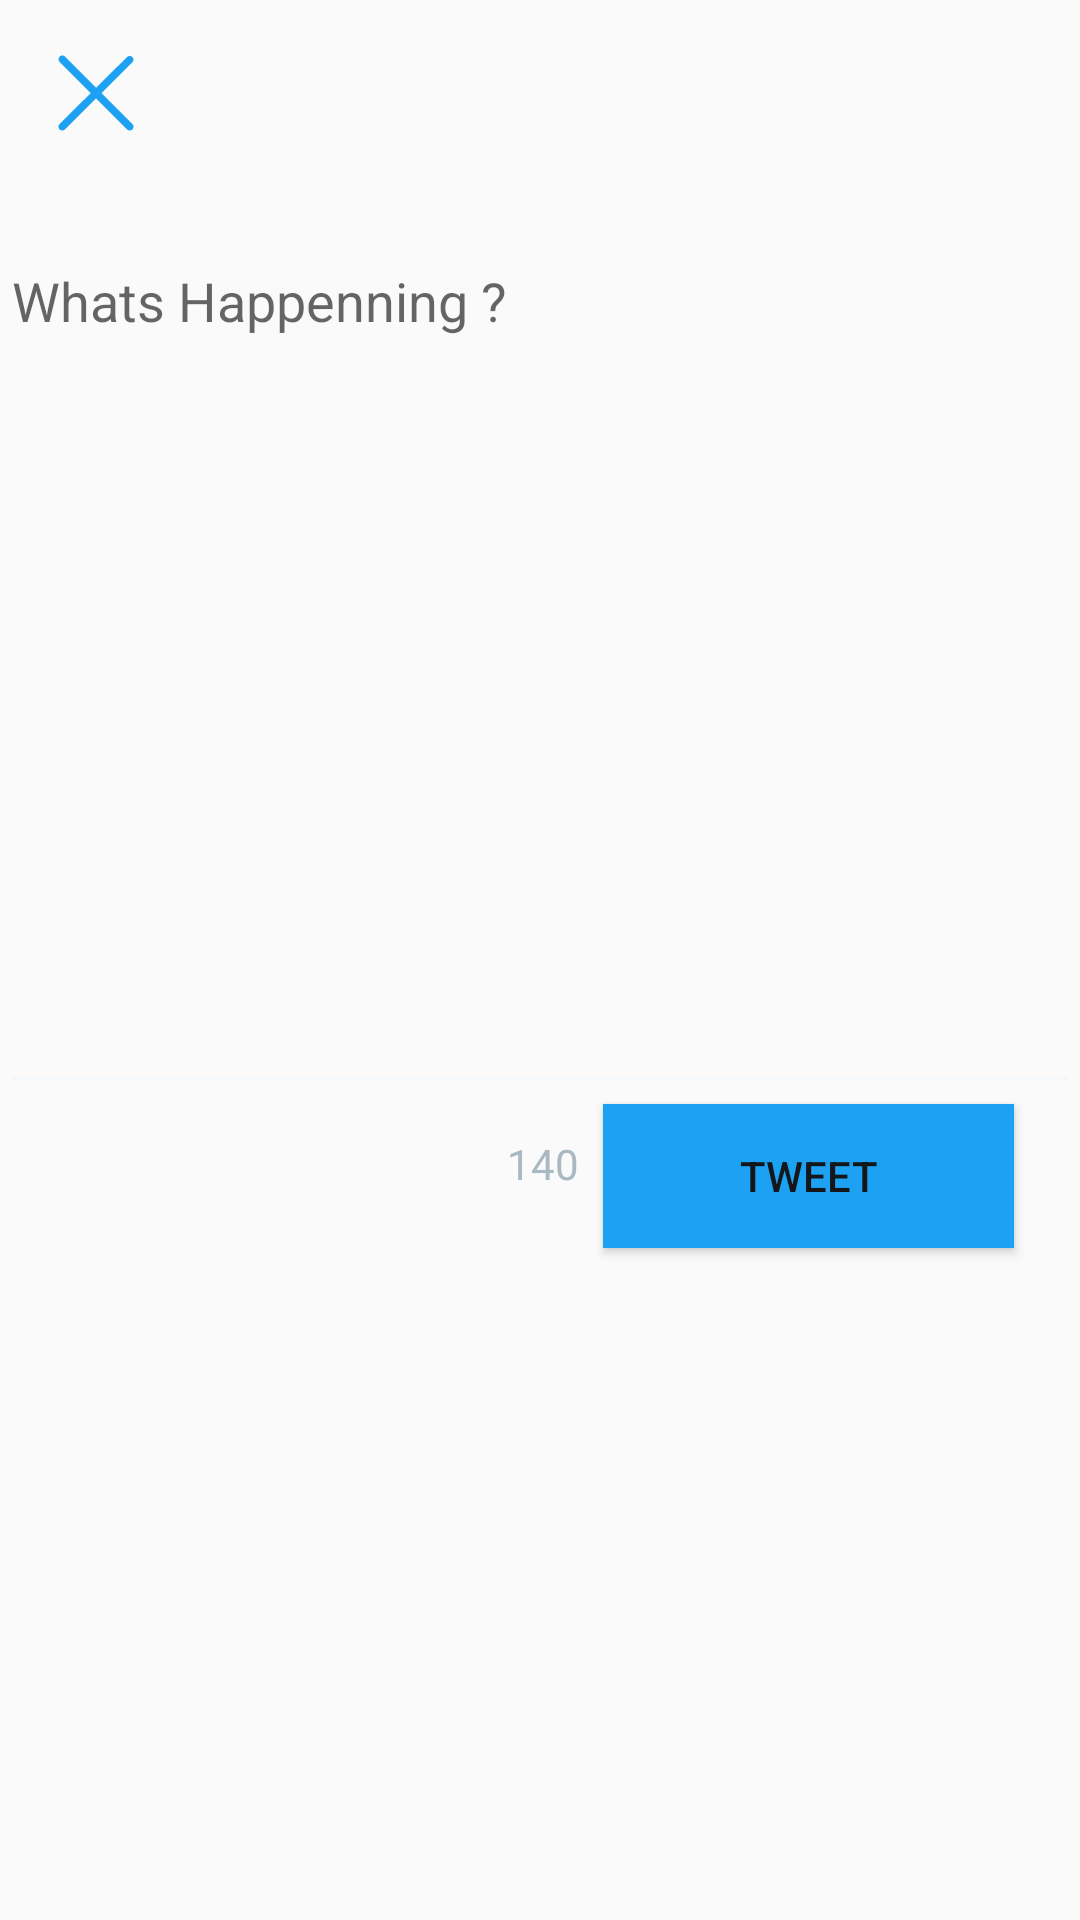

Point at icon controls on the screen. Image size 1080px×1920px, points as (x=x, y=y).
close compose: (x=96, y=93)
